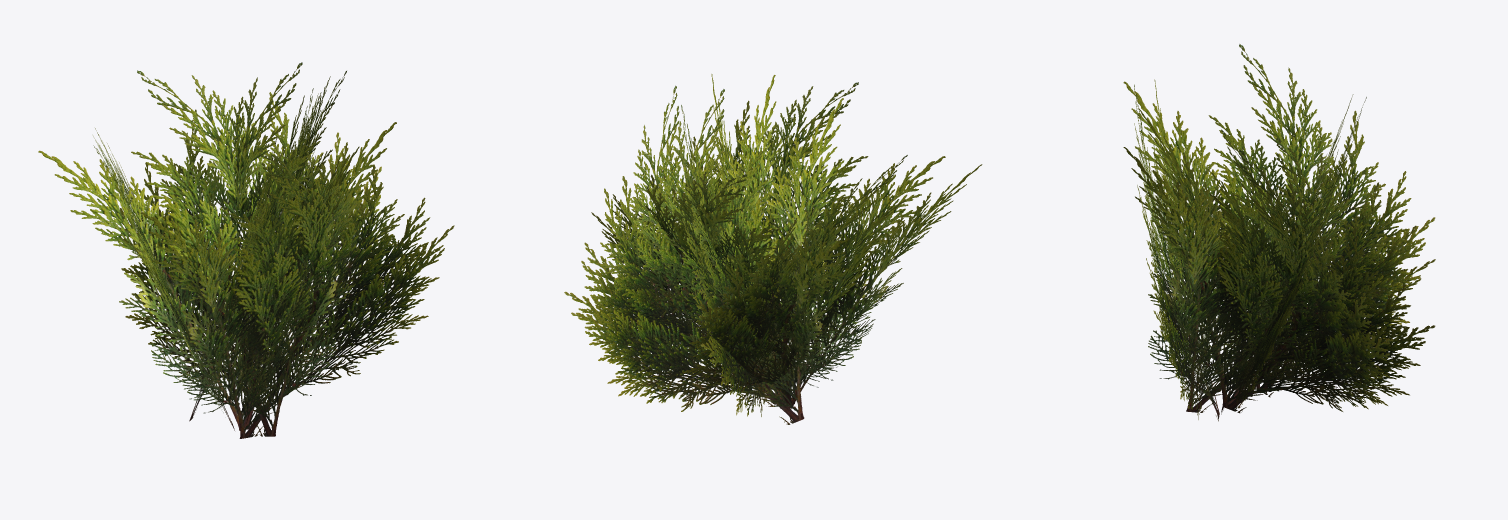
File: Bush.fbx
3 renders of one model, left to right at view 1: azimuth 30°, elevation 25°; view 2: azimuth 150°, elevation 25°; view 3: azimuth 270°, elevation 25°, orthographic. The views are drawn at different scales.
Parts seen in each view (by area): view 1: bushgreen1; view 2: bushgreen1; view 3: bushgreen1.
Part boxes in pixels (<box>): bushgreen1: <box>38,62,454,438</box>; bushgreen1: <box>564,74,982,424</box>; bushgreen1: <box>1123,44,1435,421</box>.
Size of the model in its own units: 144 by 141 by 148.
1 material, 1 textured.
